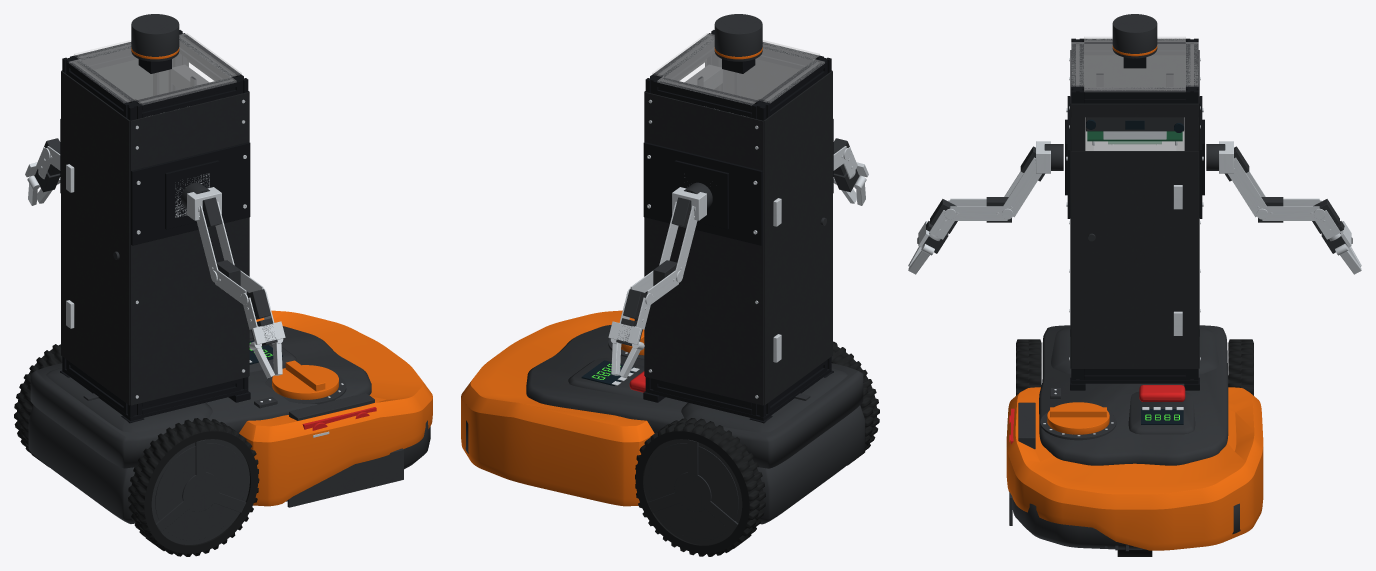
The model's file is Underbot_R10_textured.glb.
3 renders of one model, left to right at view 1: azimuth 30°, elevation 25°; view 2: azimuth 150°, elevation 25°; view 3: azimuth 270°, elevation 25°, orthographic. The views are drawn at different scales.
Visible parts, largest first — view 1: base_link__rear_door_closed, base_link__side_-1_lower, base_link__wr141e_orange_hood, base_link__wr141e_black_upper_deck, base_link, base_link__side_-1_upper, right_wheel__rubber_tyre, base_link__wr141e_lower_chassis, base_link__arm_bridge_-1, right_wheel__wheel_recess_-1, base_link__cut_to_edge_right_insert, base_link__wr141e_rear_battery_hatch (+21 smaller); view 2: base_link__wr141e_orange_hood, base_link__rear_door_closed, base_link__side_1_lower, base_link, base_link__wr141e_black_upper_deck, left_wheel, base_link__side_1_upper, left_wheel__rubber_tyre, base_link__wr141e_lower_chassis, base_link__wr141e_rear_battery_hatch, lidar_mount__lidar_head, base_link__side_-1_upper (+13 smaller); view 3: base_link__front_door_lower, base_link__wr141e_orange_hood, base_link__wr141e_black_upper_deck, base_link, base_link__rear_door_closed, base_link__wr141e_lower_chassis, base_link__front_door_upper, lidar_mount__lidar_head, base_link__control_pod, base_link__wr141e_rear_battery_hatch, left_wheel__rubber_tyre, right_wheel__rubber_tyre (+16 smaller).
Boxes of the visible parts, x1=… form: base_link__rear_door_closed: x1=61, y1=71, x2=130, y2=405; base_link__side_-1_lower: x1=130, y1=217, x2=248, y2=405; base_link__wr141e_orange_hood: x1=239, y1=310, x2=432, y2=506; base_link__wr141e_black_upper_deck: x1=30, y1=326, x2=371, y2=468; base_link: x1=60, y1=33, x2=343, y2=397; base_link__side_-1_upper: x1=130, y1=92, x2=248, y2=173; right_wheel__rubber_tyre: x1=128, y1=418, x2=259, y2=556; base_link__wr141e_lower_chassis: x1=28, y1=405, x2=430, y2=523; base_link__arm_bridge_-1: x1=131, y1=142, x2=250, y2=245; right_wheel__wheel_recess_-1: x1=155, y1=443, x2=245, y2=540; base_link__cut_to_edge_right_insert: x1=287, y1=448, x2=403, y2=507; base_link__wr141e_rear_battery_hatch: x1=46, y1=368, x2=212, y2=432; base_link__wr141e_orange_hood: x1=461, y1=310, x2=654, y2=506; base_link__rear_door_closed: x1=763, y1=71, x2=832, y2=405; base_link__side_1_lower: x1=645, y1=217, x2=763, y2=405; base_link: x1=592, y1=33, x2=824, y2=414; base_link__wr141e_black_upper_deck: x1=526, y1=325, x2=863, y2=468; left_wheel: x1=647, y1=439, x2=738, y2=540; base_link__side_1_upper: x1=645, y1=92, x2=763, y2=173; left_wheel__rubber_tyre: x1=635, y1=418, x2=765, y2=556; base_link__wr141e_lower_chassis: x1=465, y1=405, x2=865, y2=524; base_link__wr141e_rear_battery_hatch: x1=681, y1=368, x2=847, y2=432; lidar_mount__lidar_head: x1=714, y1=14, x2=762, y2=61; base_link__side_-1_upper: x1=725, y1=59, x2=832, y2=100; base_link__front_door_lower: x1=1071, y1=151, x2=1198, y2=369; base_link__wr141e_orange_hood: x1=1006, y1=387, x2=1263, y2=550; base_link__wr141e_black_upper_deck: x1=1039, y1=325, x2=1228, y2=465; base_link: x1=1043, y1=37, x2=1204, y2=551; base_link__rear_door_closed: x1=1084, y1=55, x2=1185, y2=150; base_link__wr141e_lower_chassis: x1=1012, y1=499, x2=1240, y2=549; base_link__front_door_upper: x1=1071, y1=103, x2=1198, y2=117; lidar_mount__lidar_head: x1=1112, y1=14, x2=1157, y2=58; base_link__control_pod: x1=1128, y1=391, x2=1195, y2=434; base_link__wr141e_rear_battery_hatch: x1=1051, y1=327, x2=1218, y2=374; left_wheel__rubber_tyre: x1=1228, y1=339, x2=1253, y2=395; right_wheel__rubber_tyre: x1=1016, y1=339, x2=1041, y2=395.
Bounding box in the file's own units: 0.558 × 0.778 × 0.7134.
Materials: 11 (6 with a texture image).
